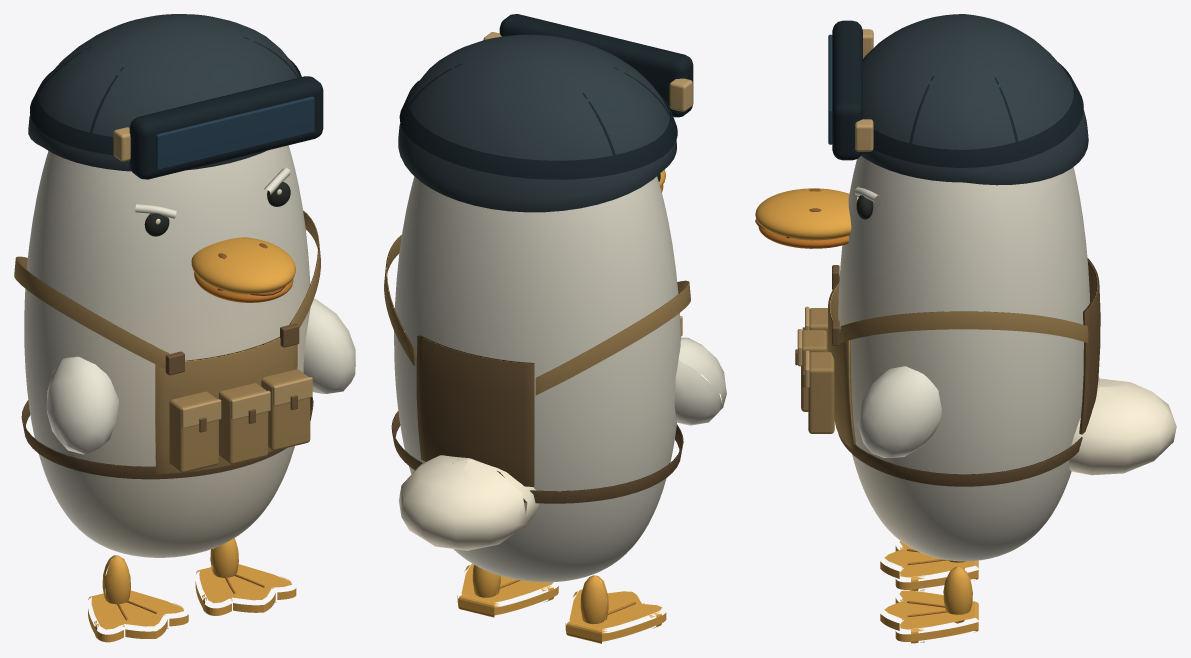
The model's file is goose-light-outfit.glb.
The picture shows the model from 3 angles, left to right: view 1: azimuth 30°, elevation 25°; view 2: azimuth 150°, elevation 25°; view 3: azimuth 270°, elevation 25°; orthographic projection.
Parts seen in each view (by area): view 1: goose_torso_mesh, goose_helmet_light_mesh, goose_vest_light_mesh, goose_leftArm_mesh, goose_beak_mesh, goose_leftFoot_mesh, goose_rightFoot_mesh, goose_rightArm_mesh; view 2: goose_torso_mesh, goose_helmet_light_mesh, goose_vest_light_mesh, goose_tail_mesh, goose_leftFoot_mesh, goose_leftArm_mesh, goose_rightFoot_mesh; view 3: goose_torso_mesh, goose_helmet_light_mesh, goose_vest_light_mesh, goose_tail_mesh, goose_rightArm_mesh, goose_beak_mesh, goose_rightFoot_mesh, goose_leftFoot_mesh.
Boxes of the visible parts, x1,y1,x2,y2 form: goose_torso_mesh: (24, 145, 310, 557); goose_helmet_light_mesh: (28, 14, 323, 179); goose_vest_light_mesh: (14, 210, 320, 479); goose_leftArm_mesh: (46, 356, 118, 454); goose_beak_mesh: (191, 237, 295, 302); goose_leftFoot_mesh: (88, 555, 188, 642); goose_rightFoot_mesh: (195, 538, 296, 615); goose_rightArm_mesh: (303, 299, 355, 393); goose_torso_mesh: (394, 176, 680, 582); goose_helmet_light_mesh: (398, 14, 693, 212); goose_vest_light_mesh: (384, 235, 690, 503); goose_tail_mesh: (398, 455, 539, 550); goose_leftFoot_mesh: (565, 575, 666, 643); goose_leftArm_mesh: (674, 337, 726, 425); goose_rightFoot_mesh: (457, 563, 558, 617); goose_torso_mesh: (838, 156, 1089, 561); goose_helmet_light_mesh: (828, 14, 1088, 185); goose_vest_light_mesh: (795, 258, 1100, 486); goose_tail_mesh: (1068, 377, 1176, 475); goose_rightArm_mesh: (857, 366, 941, 458); goose_beak_mesh: (755, 188, 851, 248); goose_rightFoot_mesh: (880, 566, 978, 643); goose_leftFoot_mesh: (880, 541, 978, 590).
Size of the model in its own units: 1.1 by 2.03 by 1.37.
